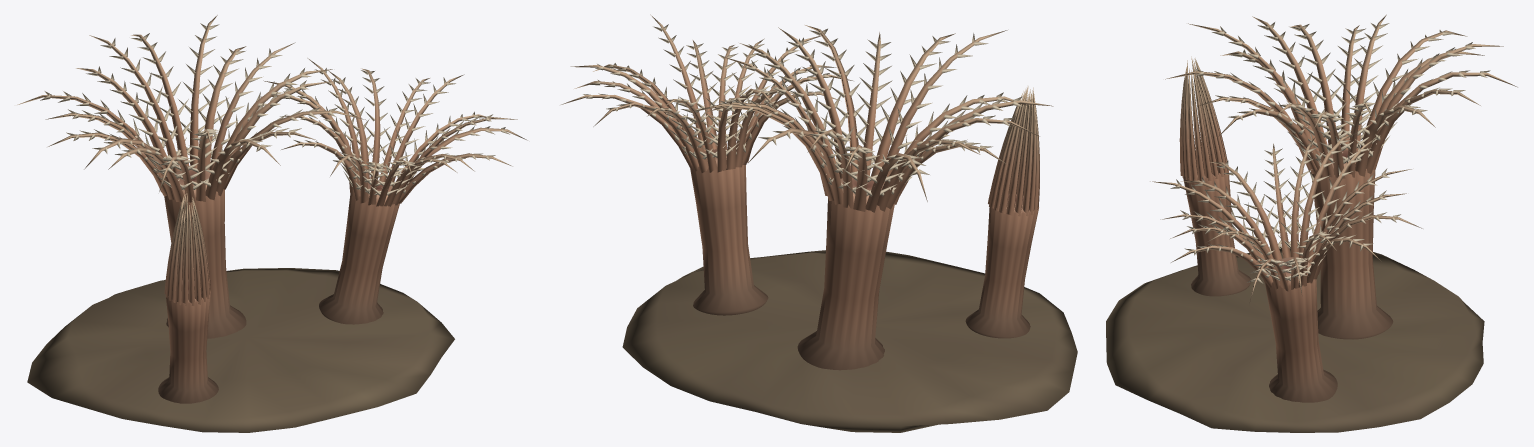
File: Xianguangia.fbx
3 renders of one model, left to right at view 1: azimuth 30°, elevation 25°; view 2: azimuth 150°, elevation 25°; view 3: azimuth 270°, elevation 25°, orthographic. The views are drawn at different scales.
Parts seen in each view (by area): view 1: Xianguangia; view 2: Xianguangia; view 3: Xianguangia.
Part boxes in pixels (x1,y1,x2,y2): Xianguangia: (17,15,527,432); Xianguangia: (561,14,1077,432); Xianguangia: (1106,14,1517,432).
Size of the model in its own units: 1.76 by 1.02 by 1.32.
